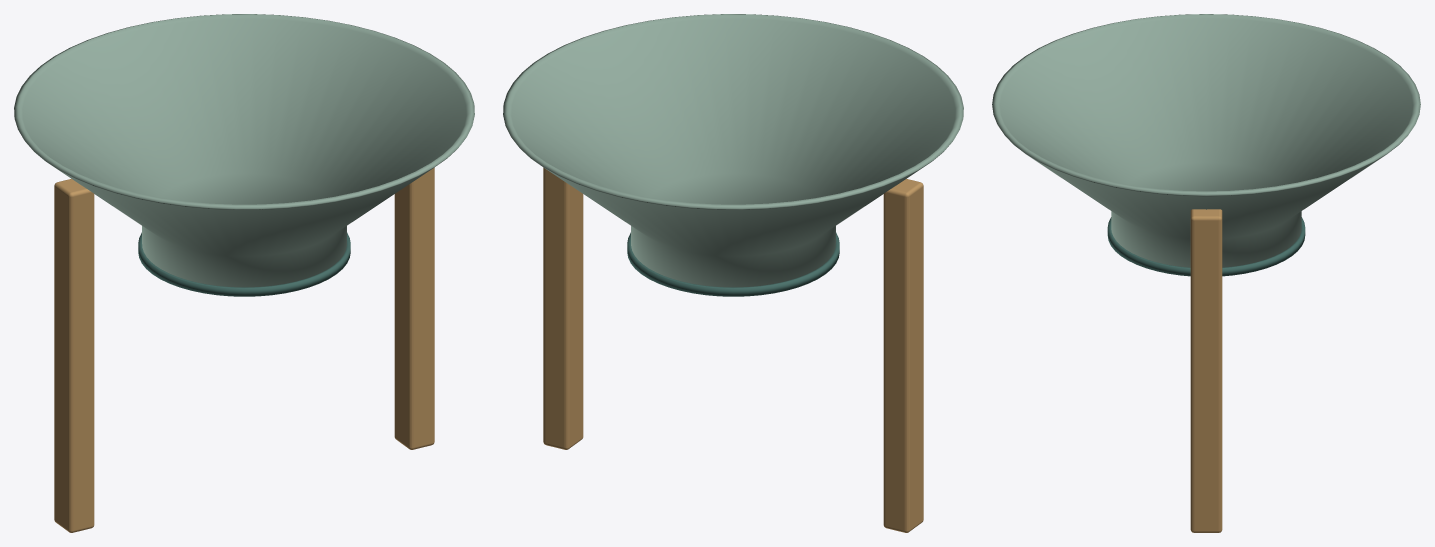
Rendered from funnel.glb.
3 renders of one model, left to right at view 1: azimuth 30°, elevation 25°; view 2: azimuth 150°, elevation 25°; view 3: azimuth 270°, elevation 25°, orthographic. The views are drawn at different scales.
Parts seen in each view (by area): view 1: funnel; view 2: funnel; view 3: funnel.
Boxes of the visible parts, x1,y1,x2,y2 form: funnel: [14, 14, 474, 532]; funnel: [503, 14, 963, 532]; funnel: [992, 14, 1420, 532].
Size of the model in its own units: 0.054 by 0.0484 by 0.054.
